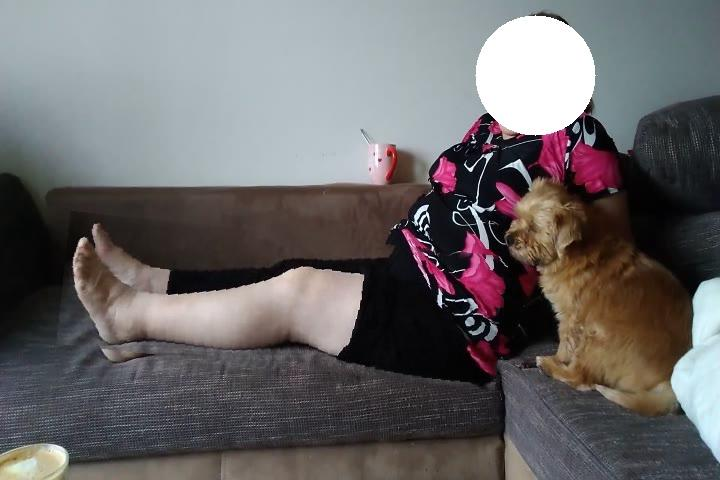lowerbody: (60, 223, 507, 380)
